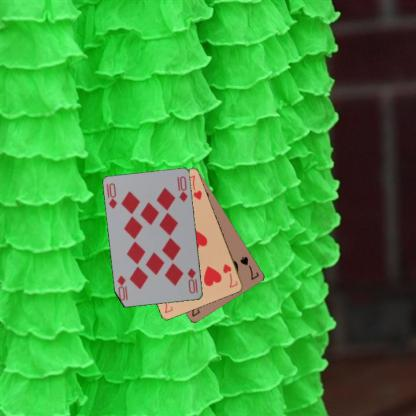10d: (185, 266, 199, 295), (104, 181, 118, 210)
7h: (220, 261, 239, 289)
7s: (238, 254, 260, 281)
